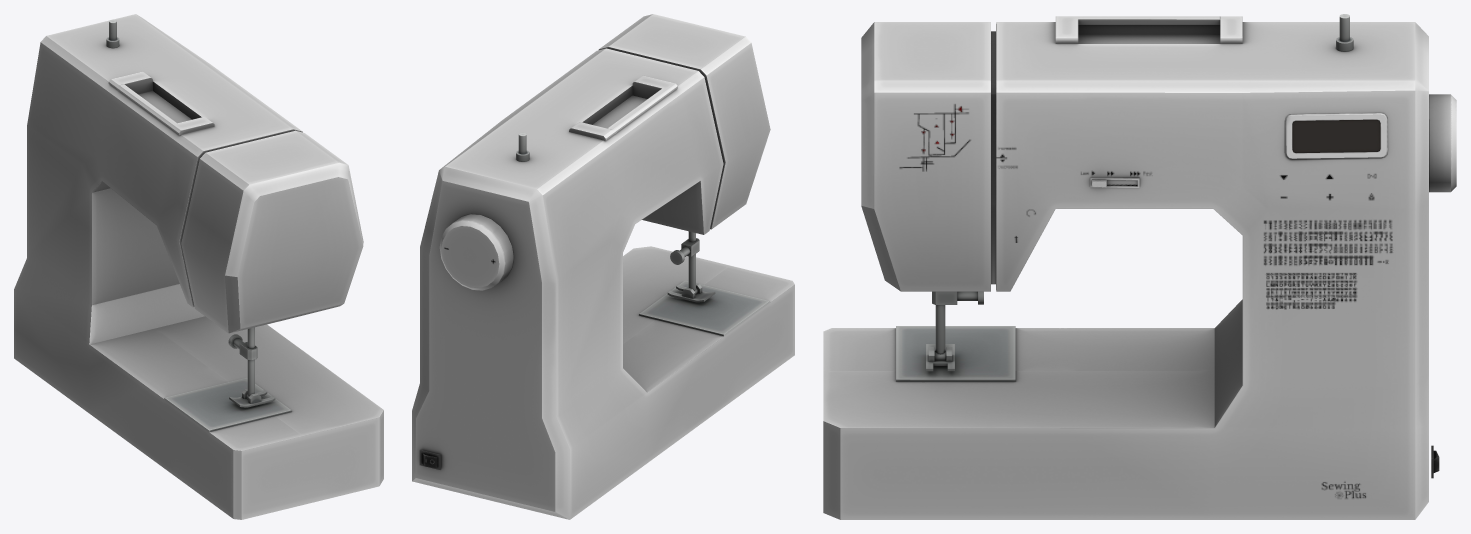
The model's file is Sewing Machine.fbx.
3 views of the same model, side by side, from view 1: azimuth 30°, elevation 25°; view 2: azimuth 150°, elevation 25°; view 3: azimuth 270°, elevation 25° (orthographic). The views are drawn at different scales.
Parts seen in each view (by area): view 1: Sewing_Machine_Mesh; view 2: Sewing_Machine_Mesh; view 3: Sewing_Machine_Mesh.
Part boxes in pixels (box(x1,y1,x2,y2)): Sewing_Machine_Mesh: box(14, 14, 383, 519); Sewing_Machine_Mesh: box(412, 14, 794, 519); Sewing_Machine_Mesh: box(823, 14, 1456, 519).
Bounding box in the file's own units: 2.05 × 4.32 × 5.5.
